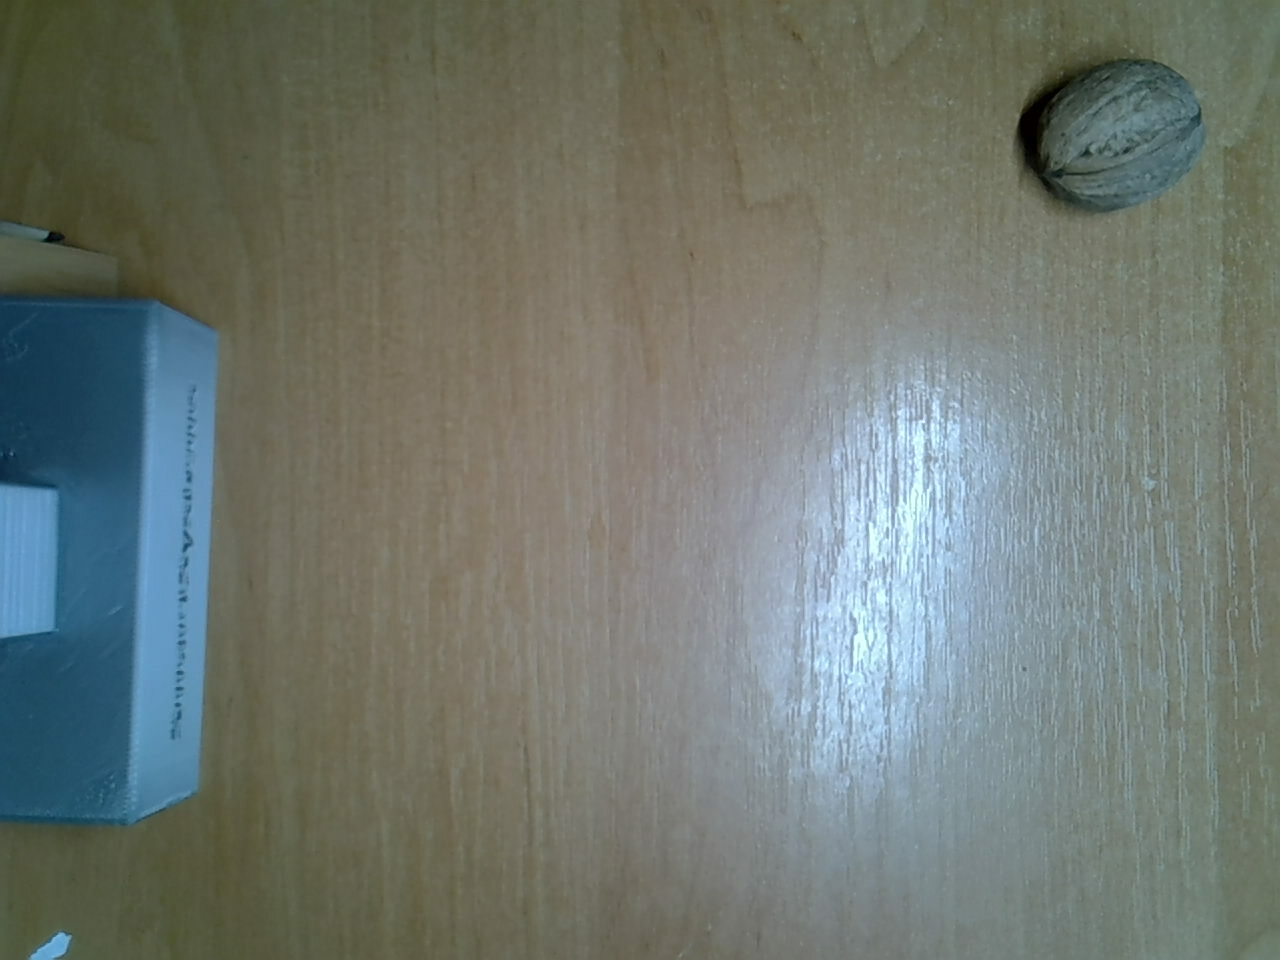nut: (1033, 51, 1211, 216)
